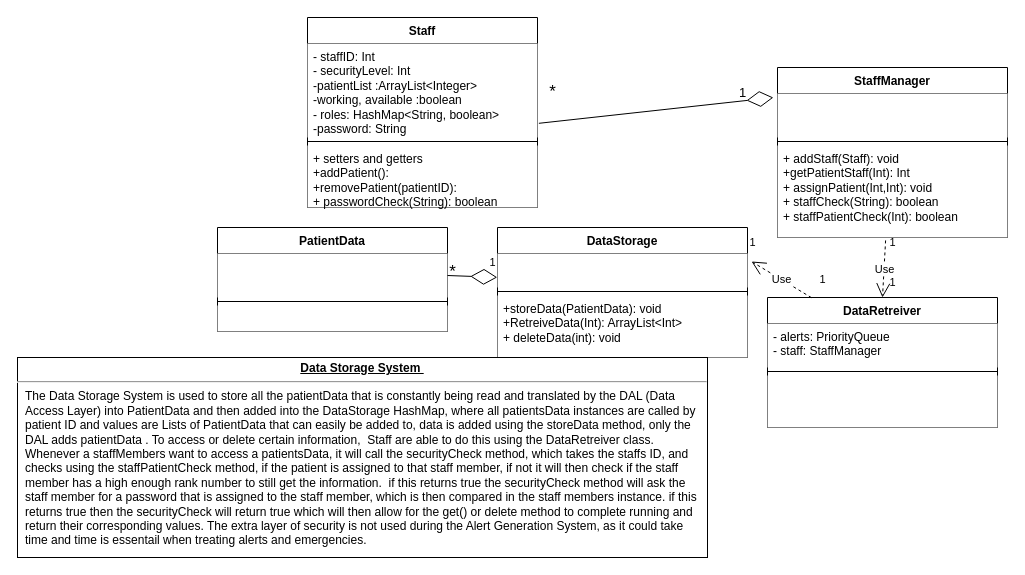
This 1025x575 diagram has some shape labels left out. The shapes that lost their labels are listed below. From the top down, each one's centre as x and y in pixels, then its label:
(892,115): -patientStaffMap: Map<Int, Int> - staffList: ArrayList<Staff>
(332,275): - patientID: Integer - metrics: String -timeStamp: TimeUnit
(622,270): - Patients: HashMap<Int, ArrayList <PatientData>>
(332,318): + setters and getters
(882,401): + get(Int): ArrayList <Int> +delete(int): void -securityCheck():boolean
